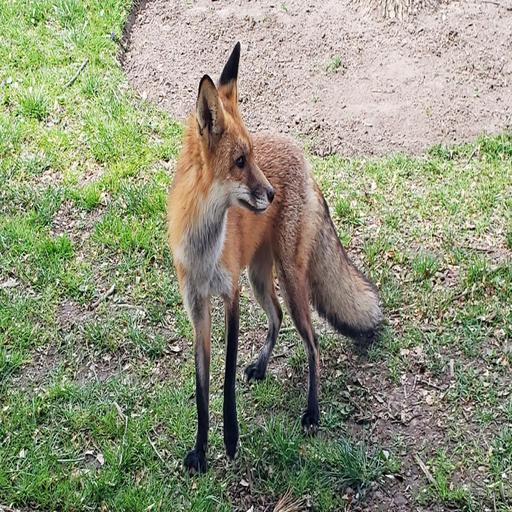Fox: (169, 40, 386, 478)
